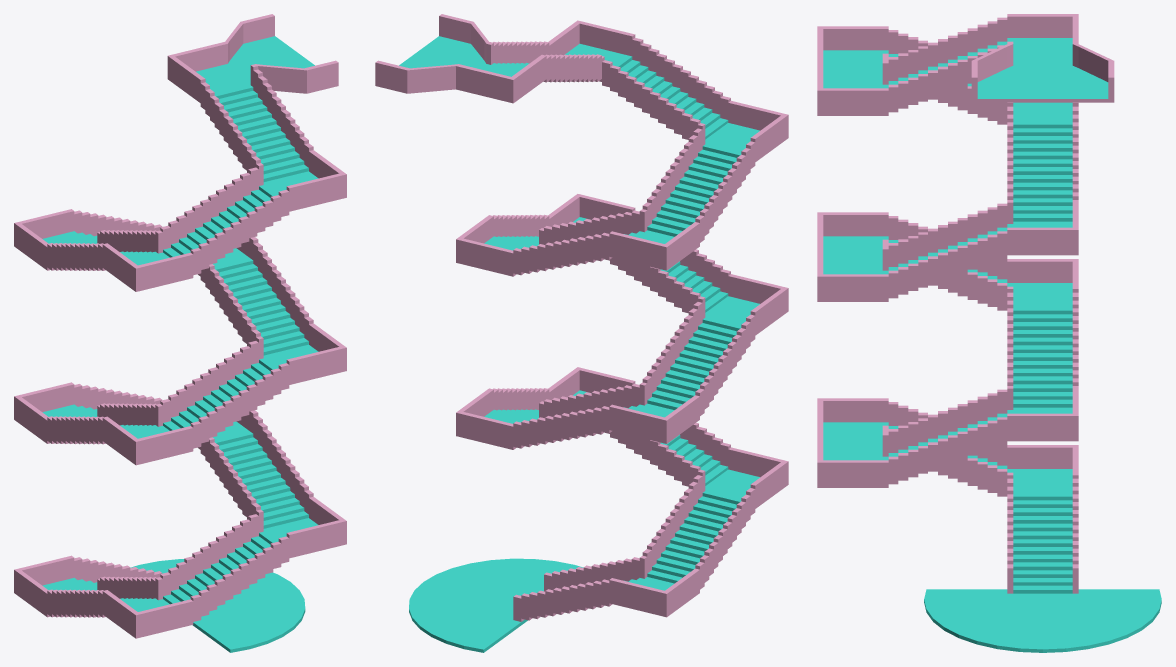
The model's file is stairs.glb.
3 renders of one model, left to right at view 1: azimuth 30°, elevation 25°; view 2: azimuth 150°, elevation 25°; view 3: azimuth 270°, elevation 25°, orthographic. The views are drawn at different scales.
Parts seen in each view (by area): view 1: Cube.001, Cube.004, Cube.002, Cylinder; view 2: Cube.001, Cube.004, Cube.002, Cylinder; view 3: Cube.001, Cube.004, Cube.002, Cylinder, Cube.
Part boxes in pixels (x1,y1,x2,y2): Cube.001: (14, 14, 346, 291); Cube.004: (14, 410, 346, 638); Cube.002: (14, 237, 346, 465); Cylinder: (130, 559, 305, 652); Cube.001: (375, 14, 788, 275); Cube.004: (456, 367, 788, 621); Cube.002: (456, 194, 788, 448); Cylinder: (409, 558, 583, 652); Cube.001: (817, 14, 1114, 221); Cube.004: (817, 386, 1078, 593); Cube.002: (817, 200, 1078, 407); Cylinder: (924, 589, 1161, 652); Cube: (1007, 593, 1078, 621).
Size of the model in its own units: 17.2 by 32.5 by 17.4.
